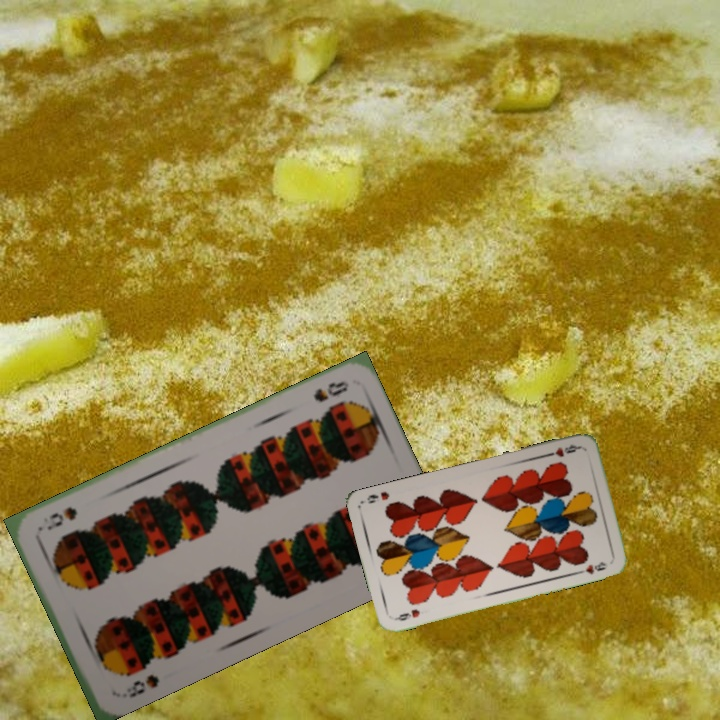H9: (543, 440, 583, 460), (391, 605, 423, 624)
S8: (122, 670, 162, 701), (309, 377, 352, 405)
